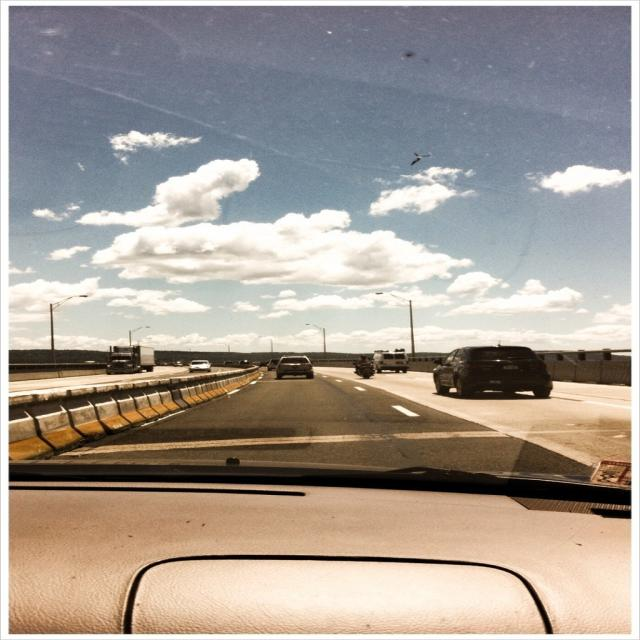car: (428, 341, 552, 397), (276, 356, 314, 381), (186, 358, 212, 371)
